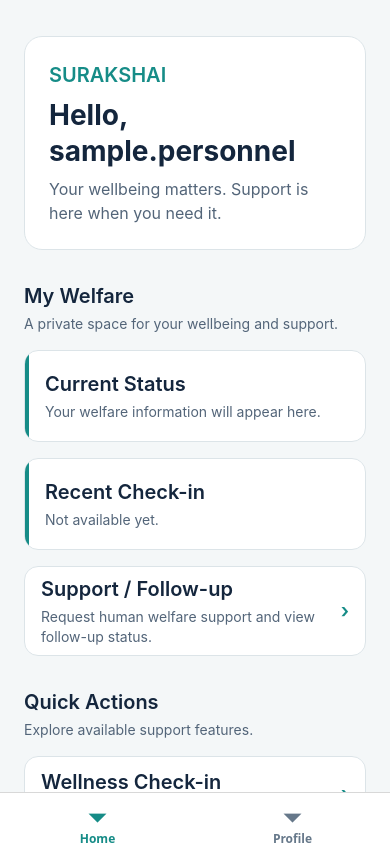
Test: personnel Support & Follow-up screen › replaces the placeholder with a real empty request flow
Expected: the text "Hello, sample.personnel" is shown, [49,98,296,168]
Click the button named "Support / Follow-up. Request human welfare support and view follow-up status." at (195, 611), box [24,566,366,656]
(page scrolled)
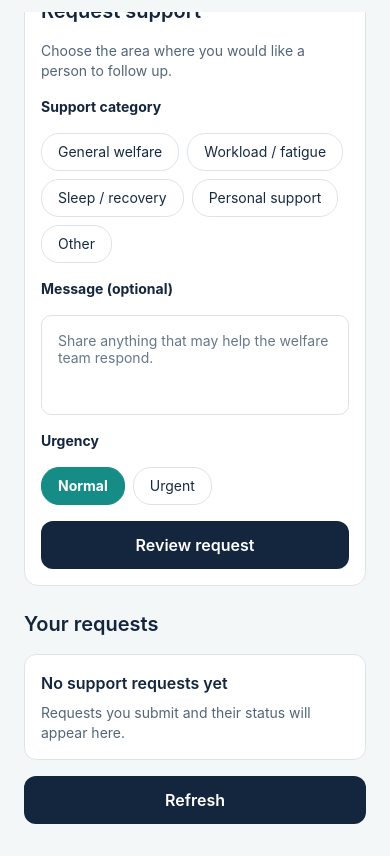
Expected: the text "No support requests yet" is shown, [41,673,228,693]
